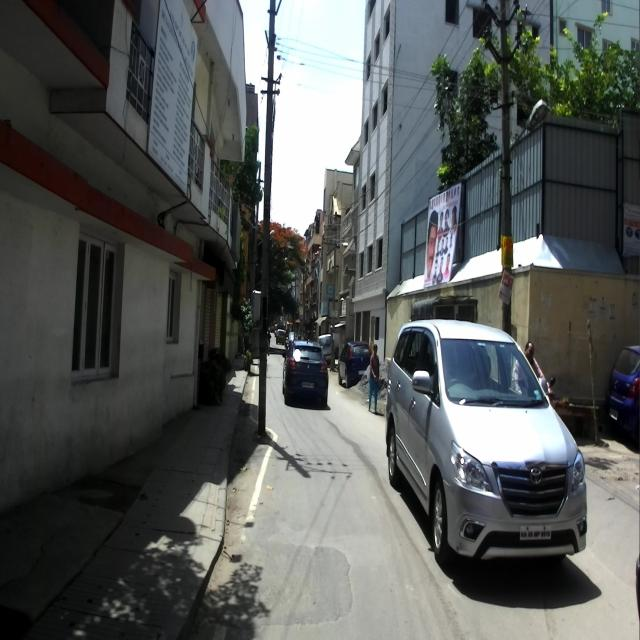car: (384, 314, 588, 584), (280, 336, 328, 407), (337, 340, 371, 387), (318, 332, 333, 366)
